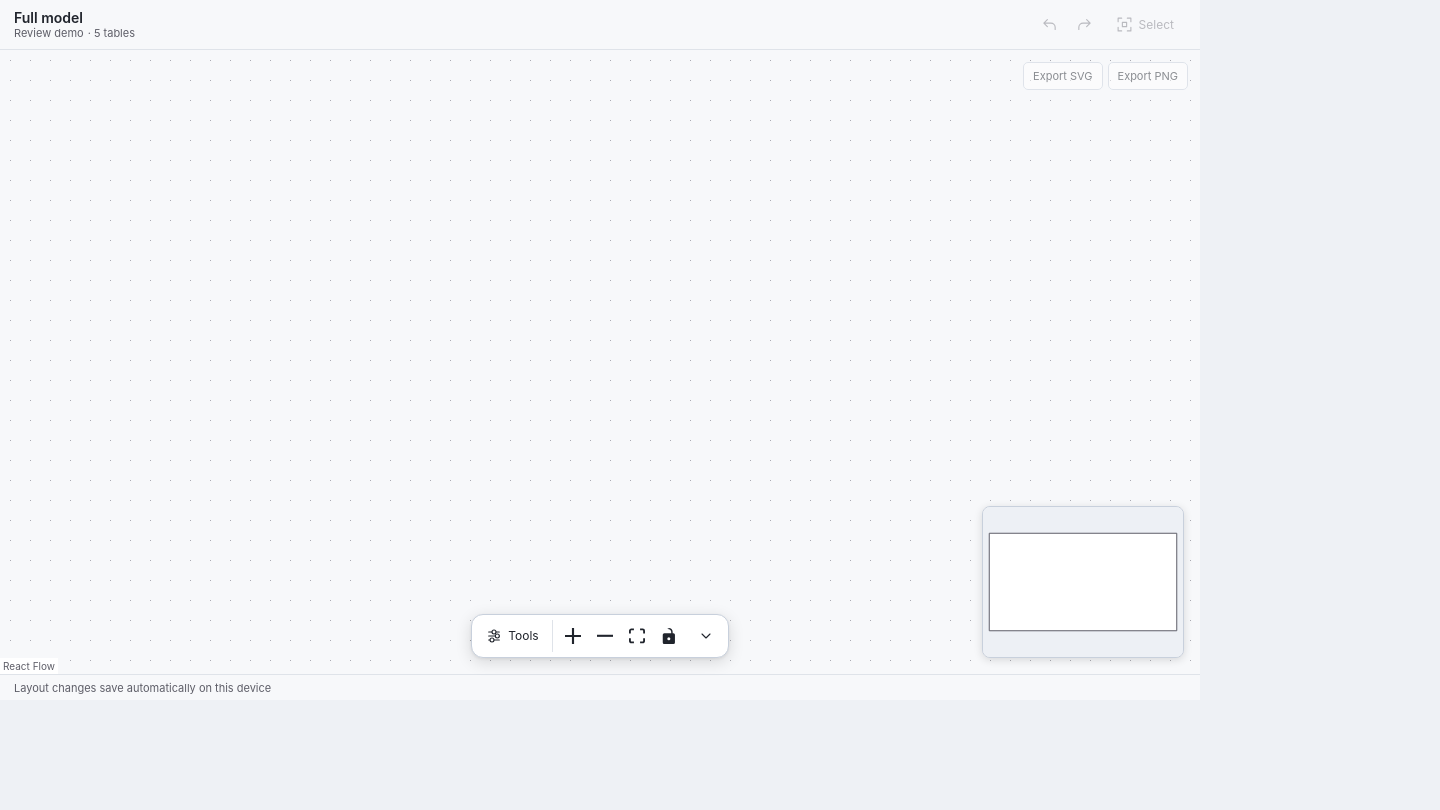
Model relationship deletion › opens the inferred review queue without enabling canvas suggestions
The width and height of the screenshot is (1440, 810).
What coordinates should you click on to do the following:
click the button with aria-label "Canvas tools"
I would click on:
 (513, 636)
Its box is [477,620,548,652].
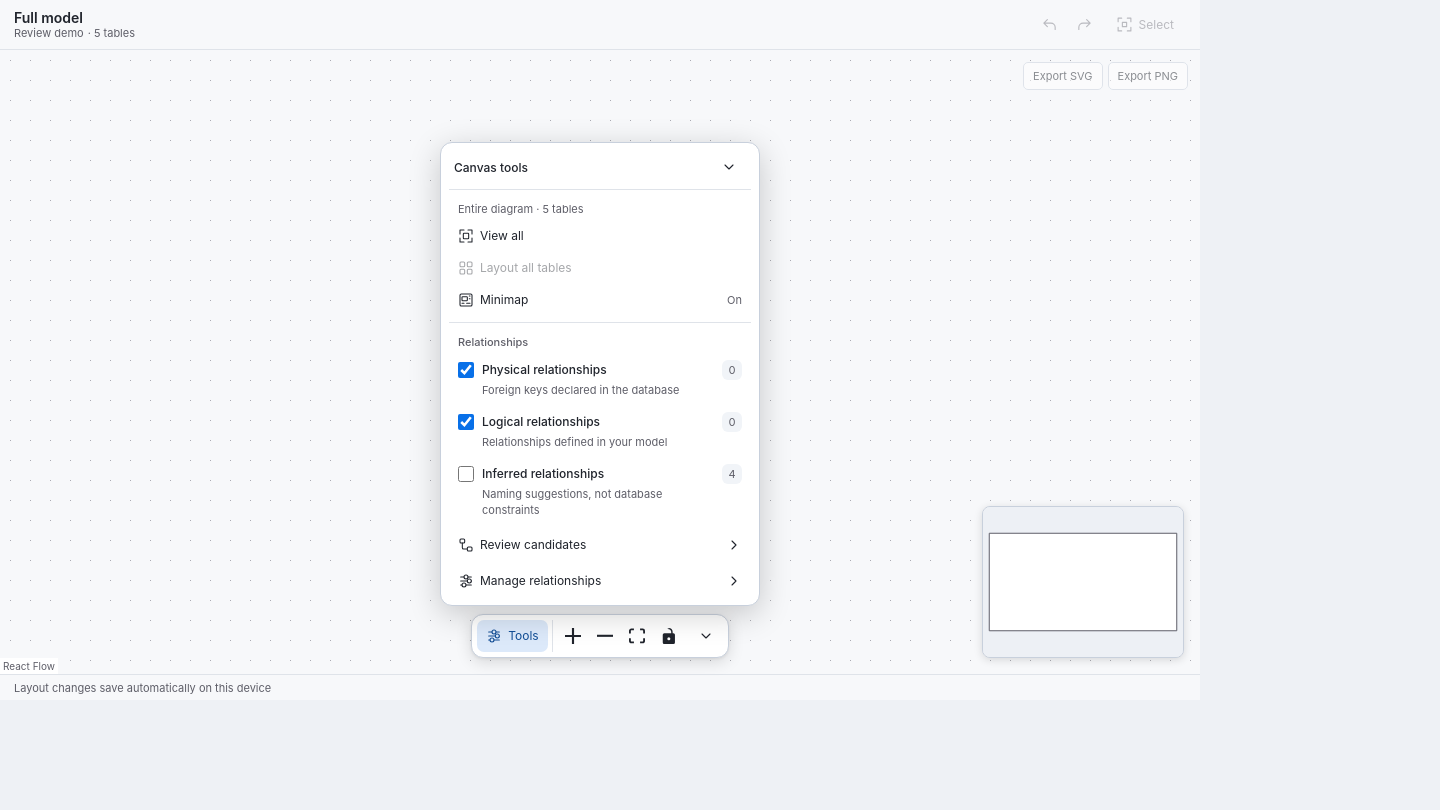
What coordinates should you click on to do the following:
click the button "Review candidates"
I would click on:
 (533, 545)
Its box is [449,529,751,561].
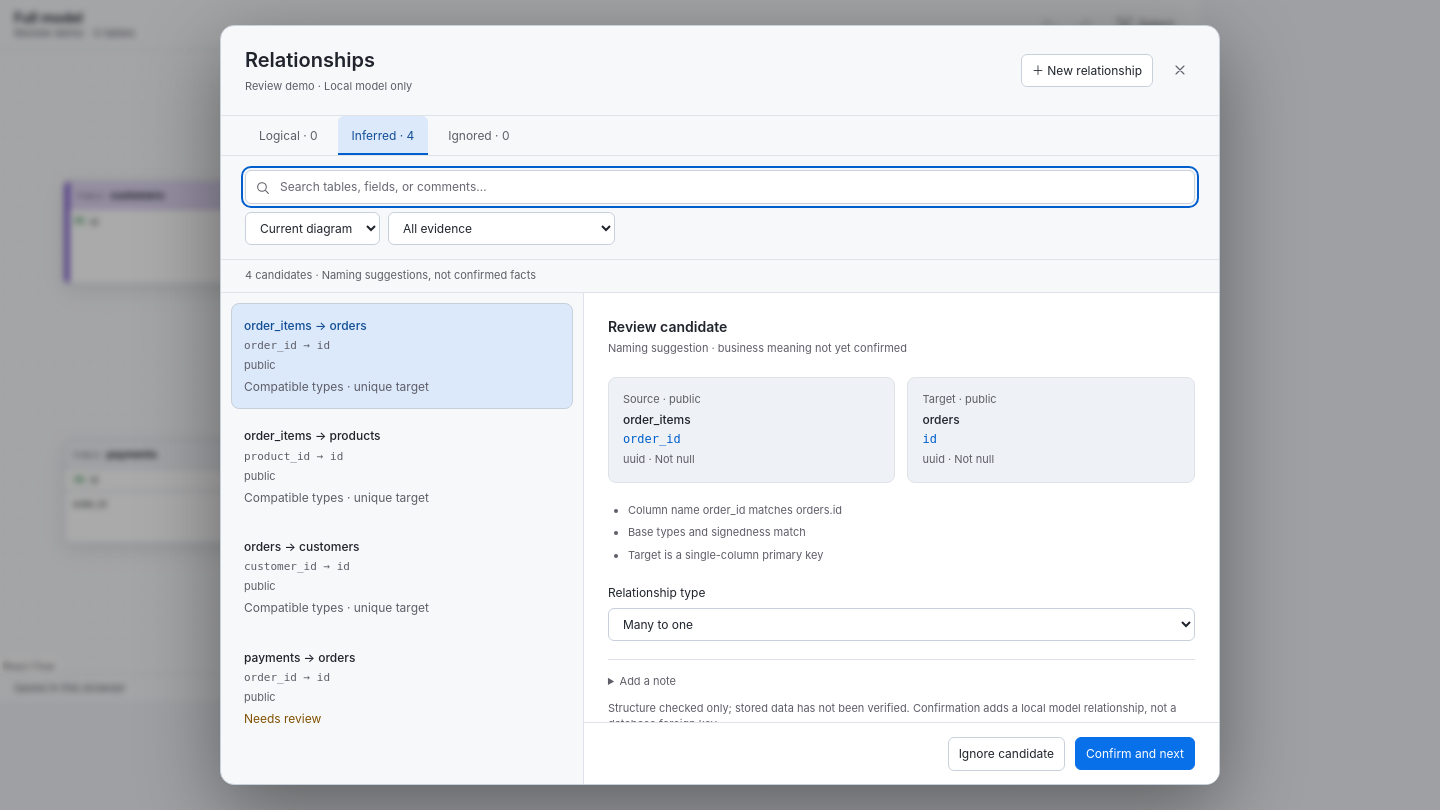
expect the dialog "Relationships" is shown: met
expect the navigation bar named "Inferred candidates" is shown: met, box [221,293,584,784]
expect the button "Confirm and next" is enabled: met, box [1075,737,1195,770]
